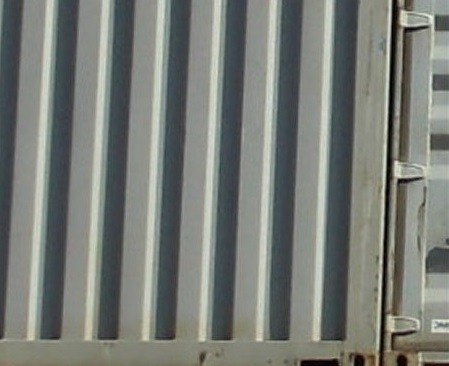container_no_door: (3, 1, 397, 359)
